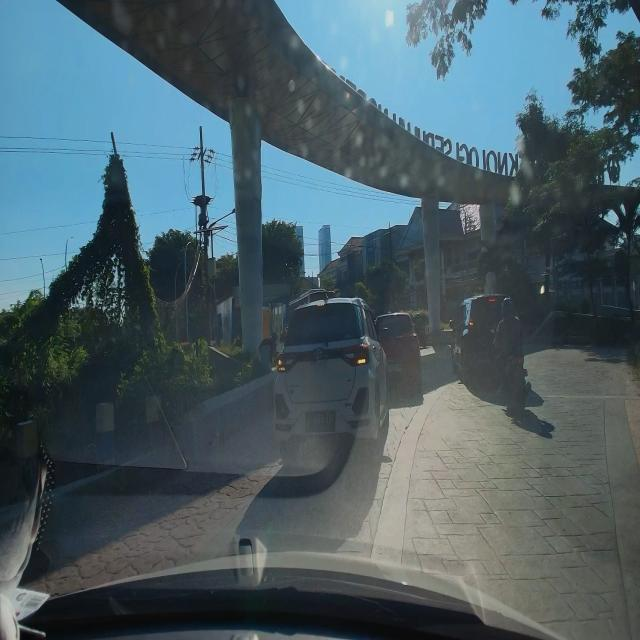car: (270, 295, 392, 462)
